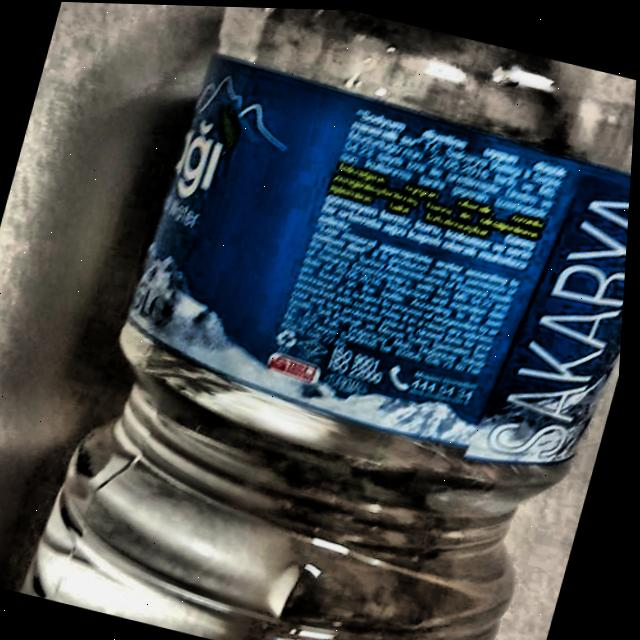plastic: (25, 5, 637, 640)
